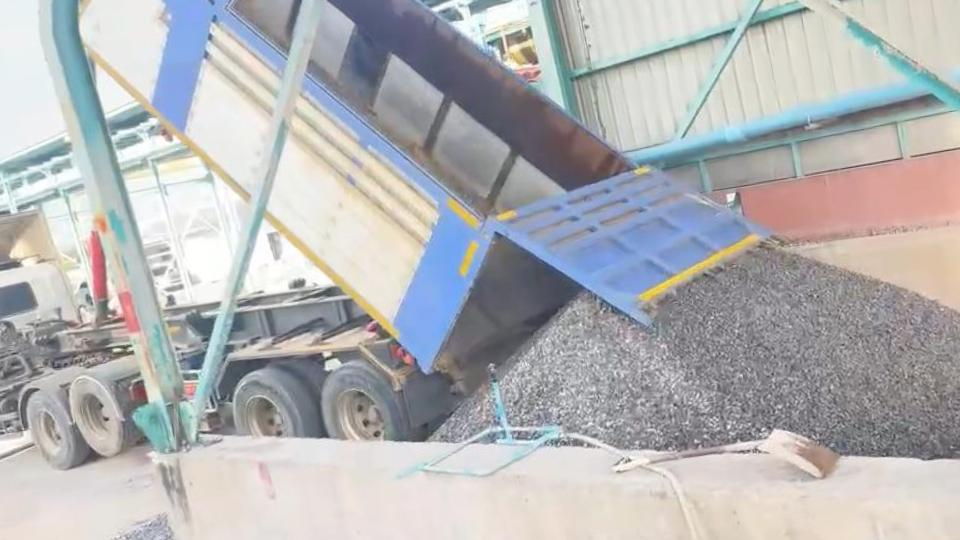gravel: (501, 247, 960, 458), (0, 515, 204, 540), (433, 388, 492, 440)
